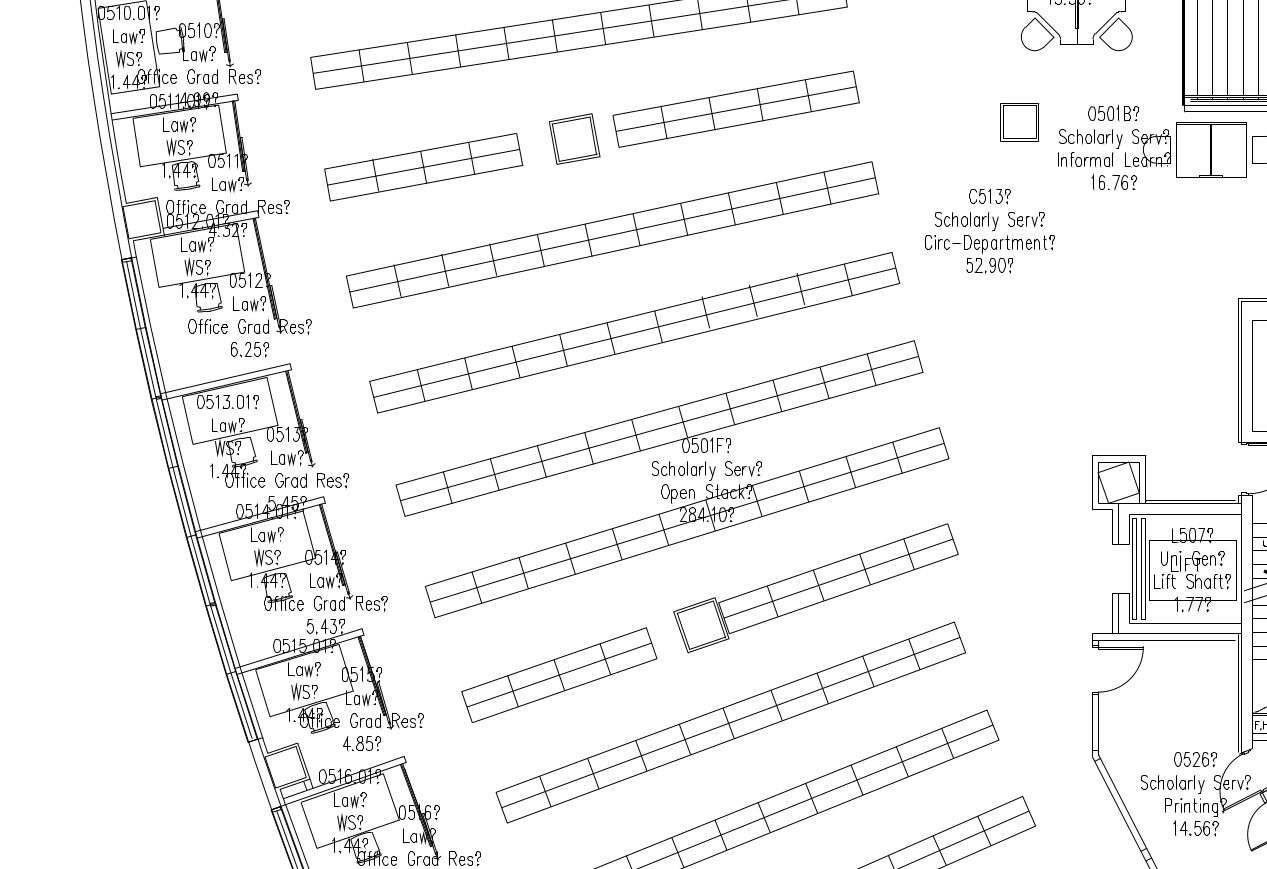door: (1200, 751, 1266, 816), (1090, 643, 1150, 698), (1245, 802, 1267, 860)
